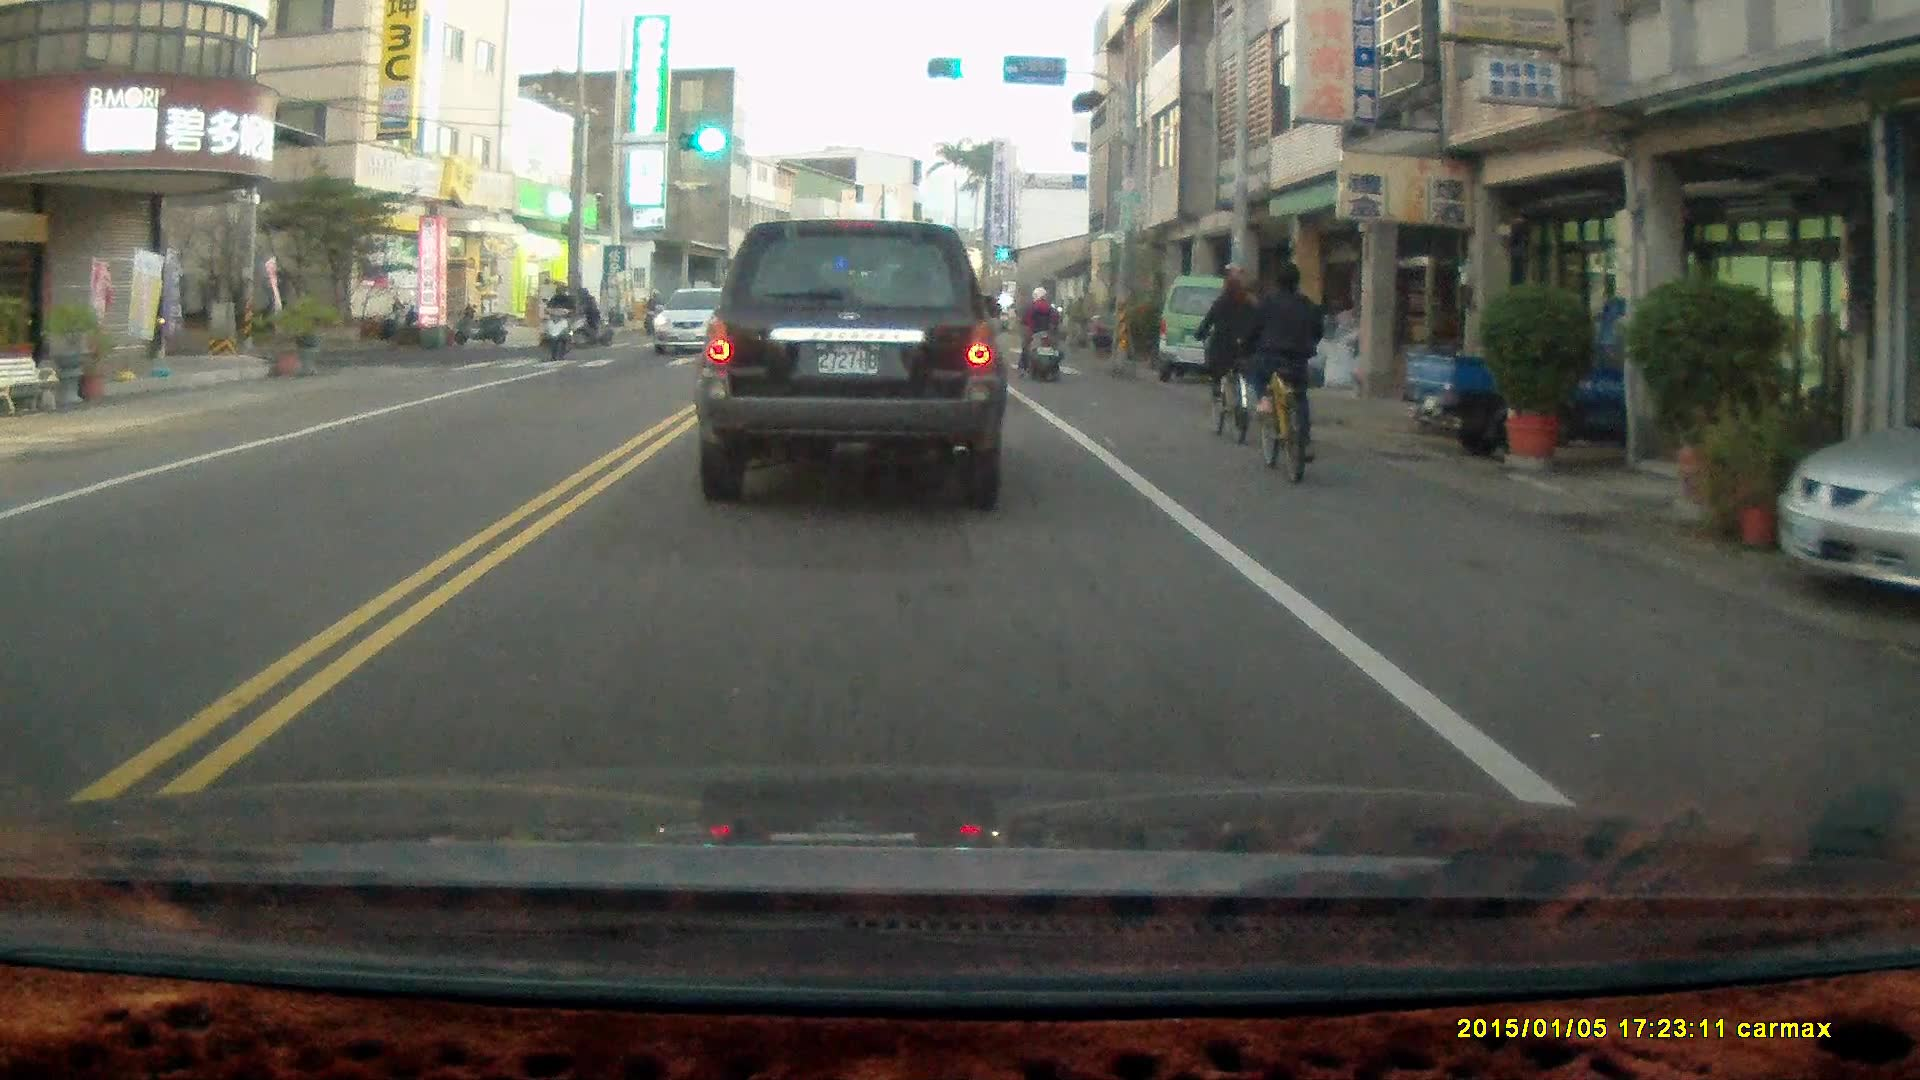rider: (1238, 256, 1323, 484), (1194, 276, 1256, 441), (1011, 282, 1065, 381), (537, 278, 575, 361), (569, 286, 609, 348), (641, 285, 665, 335)
vehicle: (694, 216, 1010, 505), (1774, 421, 1920, 610), (1160, 277, 1262, 378), (649, 287, 747, 359)
